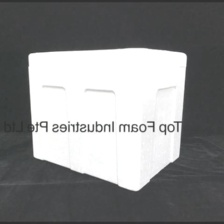foam_box: (22, 41, 194, 195)
